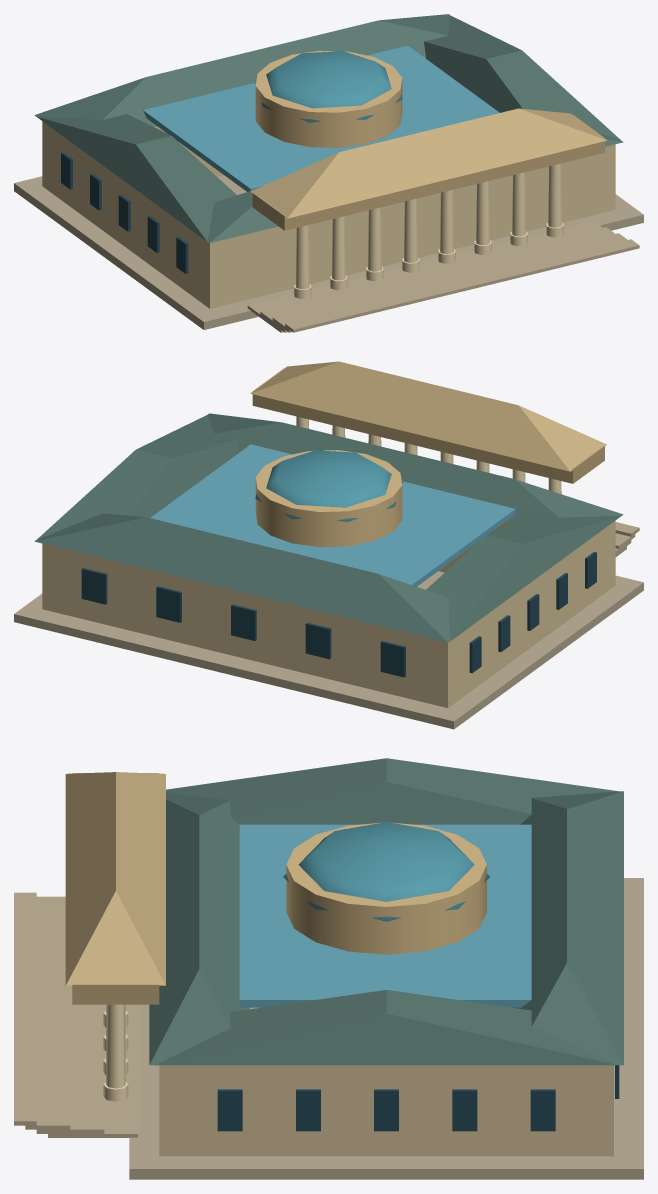
File: british-museum.glb
The picture shows the model from 3 angles, top to bottom: view 1: azimuth 30°, elevation 25°; view 2: azimuth 150°, elevation 25°; view 3: azimuth 270°, elevation 25°; orthographic projection. The views are drawn at different scales.
Parts seen in each view (by area): view 1: roof_9BA9A6, body_D8D2BE, roof_C1B79E, glass_court_A9C1BE, base_BCB49B, body_DCD5C1, base_B8B49D, reading_room_C1B496, reading_room_A8B9AF, body_CEC5AD, detail_6B6A5B; view 2: roof_9BA9A6, body_D8D2BE, roof_C1B79E, glass_court_A9C1BE, base_B8B49D, reading_room_C1B496, detail_6B6A5B, reading_room_A8B9AF, body_CEC5AD, body_DCD5C1, base_BCB49B; view 3: roof_9BA9A6, body_D8D2BE, glass_court_A9C1BE, base_B8B49D, roof_C1B79E, base_BCB49B, reading_room_C1B496, reading_room_A8B9AF, detail_6B6A5B, body_DCD5C1, body_CEC5AD.
Part boxes in pixels (x1,y1,x2,y2): roof_9BA9A6: [34, 14, 623, 243]; body_D8D2BE: [42, 121, 615, 308]; roof_C1B79E: [250, 108, 607, 218]; glass_court_A9C1BE: [143, 45, 499, 191]; base_BCB49B: [247, 221, 639, 332]; body_DCD5C1: [293, 163, 563, 298]; base_B8B49D: [14, 175, 643, 329]; reading_room_C1B496: [255, 50, 402, 147]; reading_room_A8B9AF: [255, 51, 402, 122]; body_CEC5AD: [252, 115, 604, 230]; detail_6B6A5B: [61, 152, 188, 273]; roof_9BA9A6: [34, 413, 623, 642]; body_D8D2BE: [42, 520, 615, 707]; roof_C1B79E: [250, 361, 606, 471]; glass_court_A9C1BE: [150, 444, 515, 586]; base_B8B49D: [14, 571, 643, 729]; reading_room_C1B496: [255, 450, 402, 547]; detail_6B6A5B: [81, 551, 596, 677]; reading_room_A8B9AF: [255, 450, 402, 521]; body_CEC5AD: [252, 368, 604, 483]; body_DCD5C1: [296, 416, 561, 494]; base_BCB49B: [615, 522, 639, 556]; roof_9BA9A6: [149, 758, 623, 1065]; body_D8D2BE: [159, 1065, 613, 1156]; glass_court_A9C1BE: [239, 824, 531, 1007]; base_B8B49D: [129, 878, 643, 1179]; roof_C1B79E: [65, 772, 165, 985]; base_BCB49B: [14, 892, 137, 1137]; reading_room_C1B496: [286, 822, 486, 954]; reading_room_A8B9AF: [283, 822, 489, 921]; detail_6B6A5B: [217, 1065, 619, 1131]; body_DCD5C1: [103, 1004, 128, 1101]; body_CEC5AD: [72, 773, 159, 1004].
Bounding box in the file's own units: 1 × 0.3252 × 0.915.
